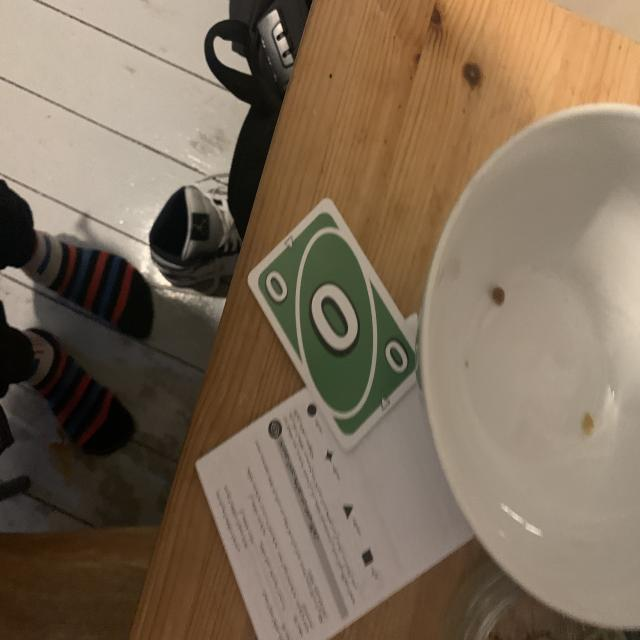lgreen-0: (260, 264, 292, 306)
